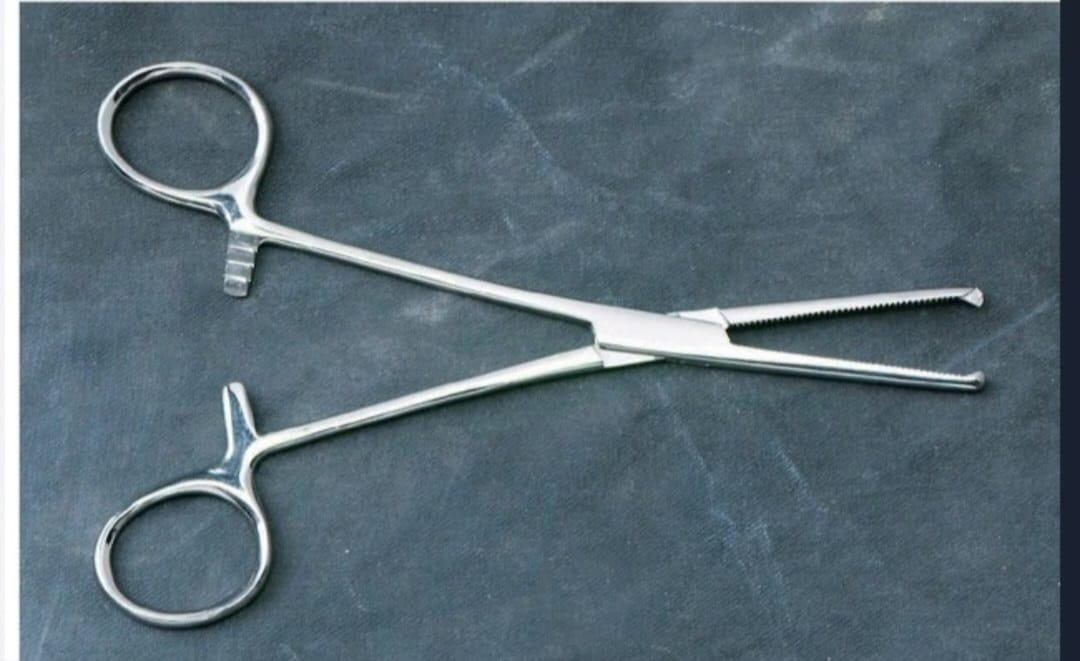Kocher Forceps: (90, 51, 1003, 642)
